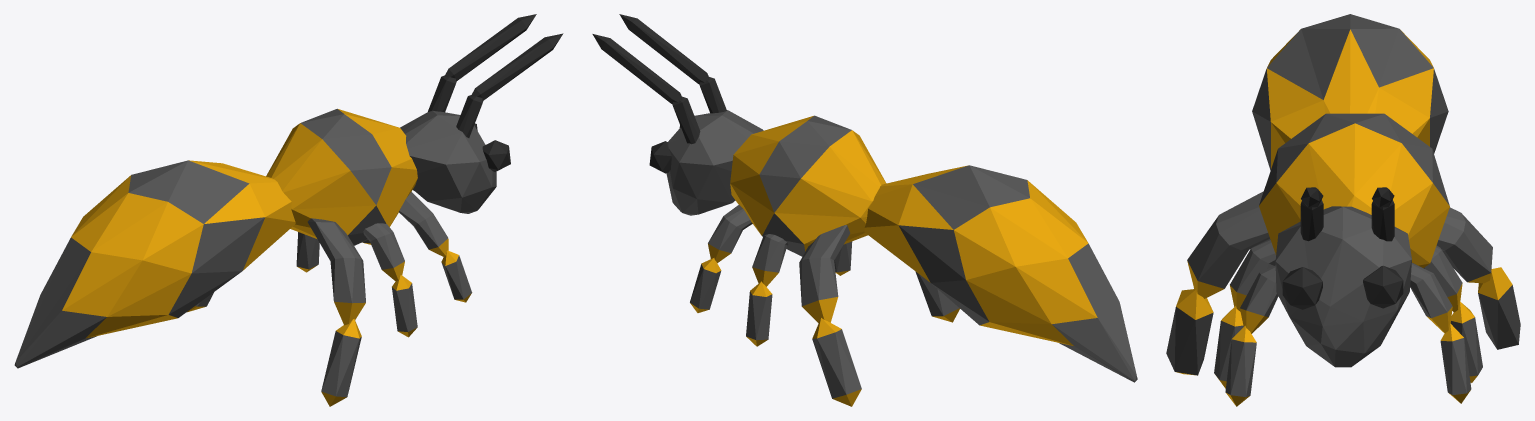
Rendered from beeC.fbx.
3 renders of one model, left to right at view 1: azimuth 30°, elevation 25°; view 2: azimuth 150°, elevation 25°; view 3: azimuth 270°, elevation 25°, orthographic. The views are drawn at different scales.
Parts seen in each view (by area): view 1: Icosphere.171; view 2: Icosphere.171; view 3: Icosphere.171.
Boxes of the visible parts, box(x1,y1,x2,y2) form: Icosphere.171: box(14, 14, 563, 406); Icosphere.171: box(592, 14, 1137, 406); Icosphere.171: box(1166, 14, 1520, 406).
Size of the model in its own units: 14461 by 7058 by 6291.
